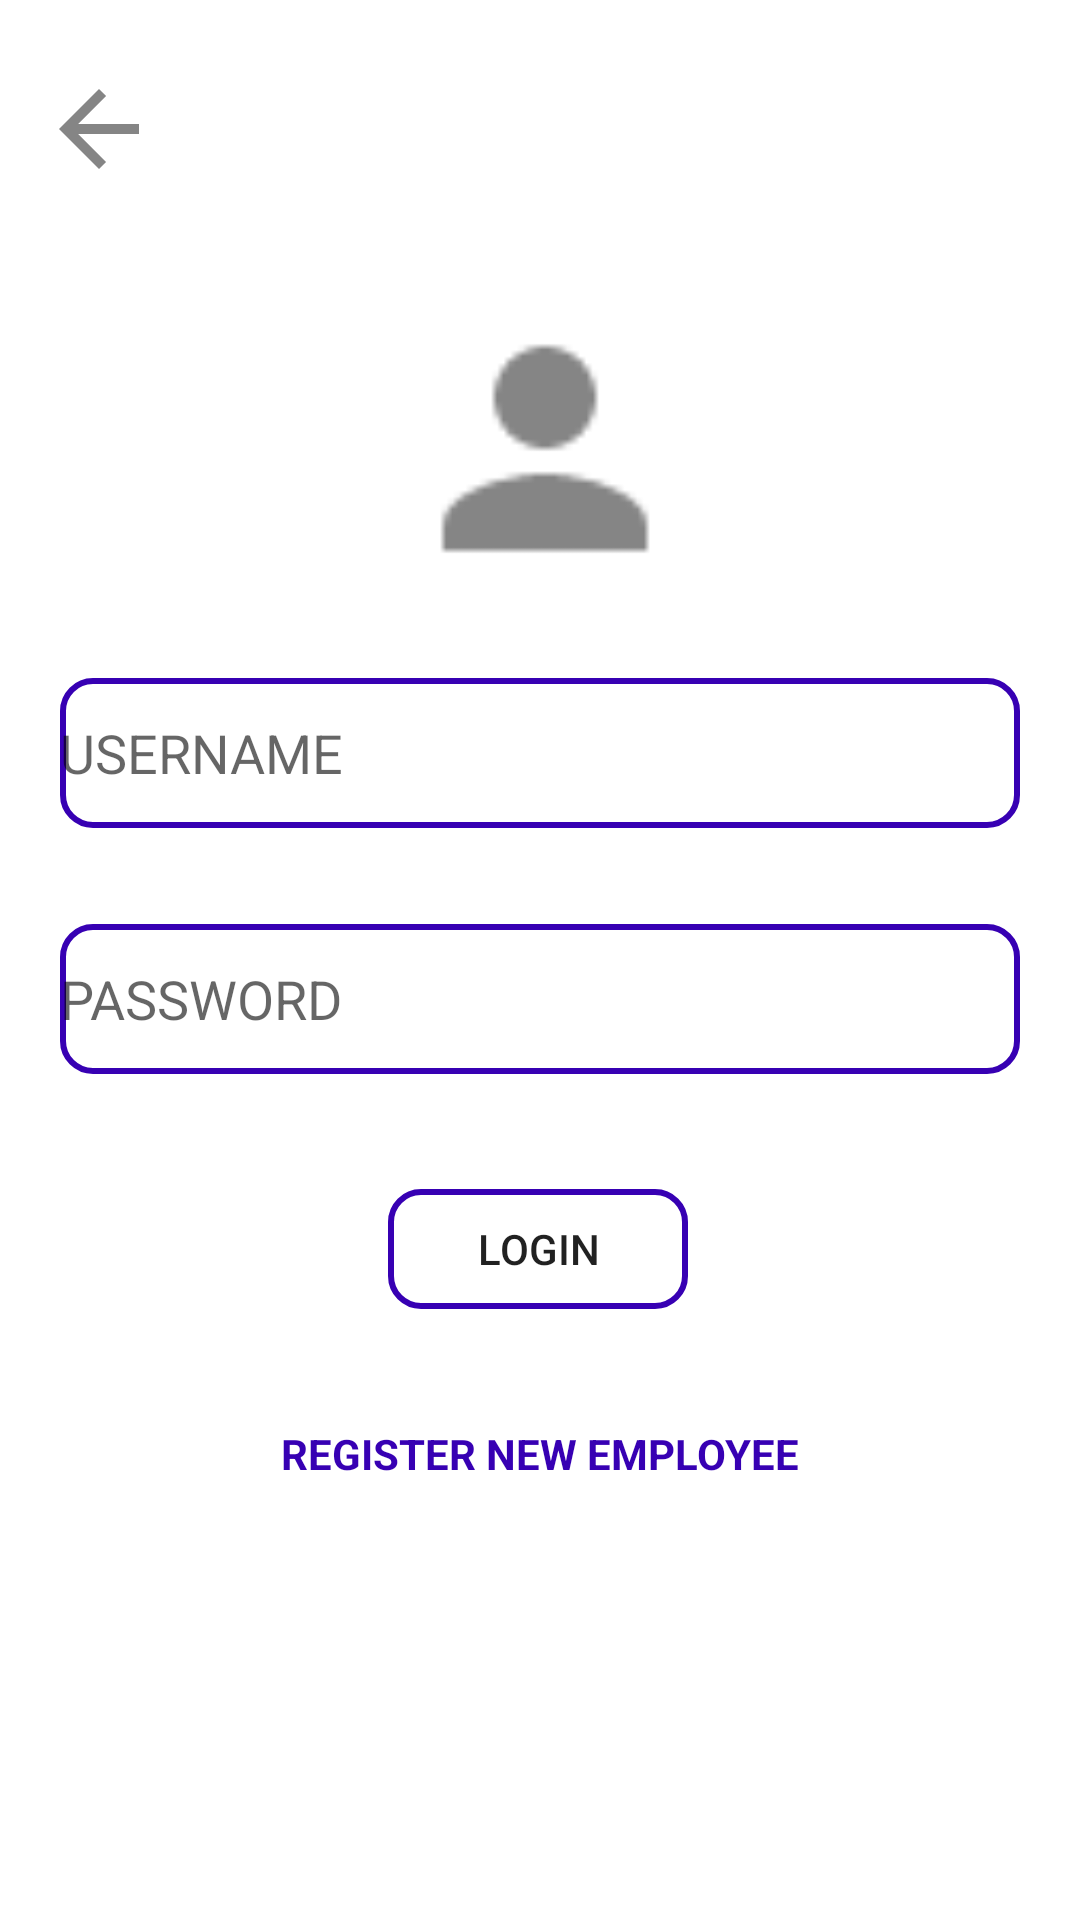

Where to tap for icons on this 1080px x 1920px app screen, as (x,y):
backwards: (99,129)
profile: (545,448)
